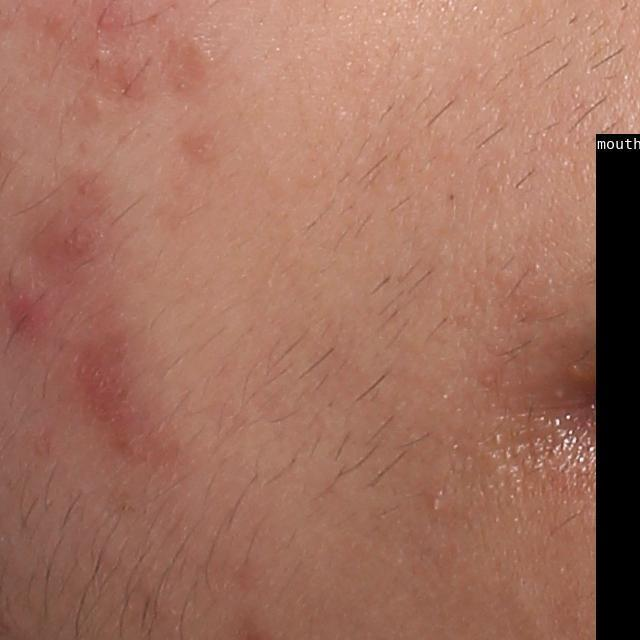comedo: (425, 493, 441, 515)
papule: (11, 274, 58, 336)
